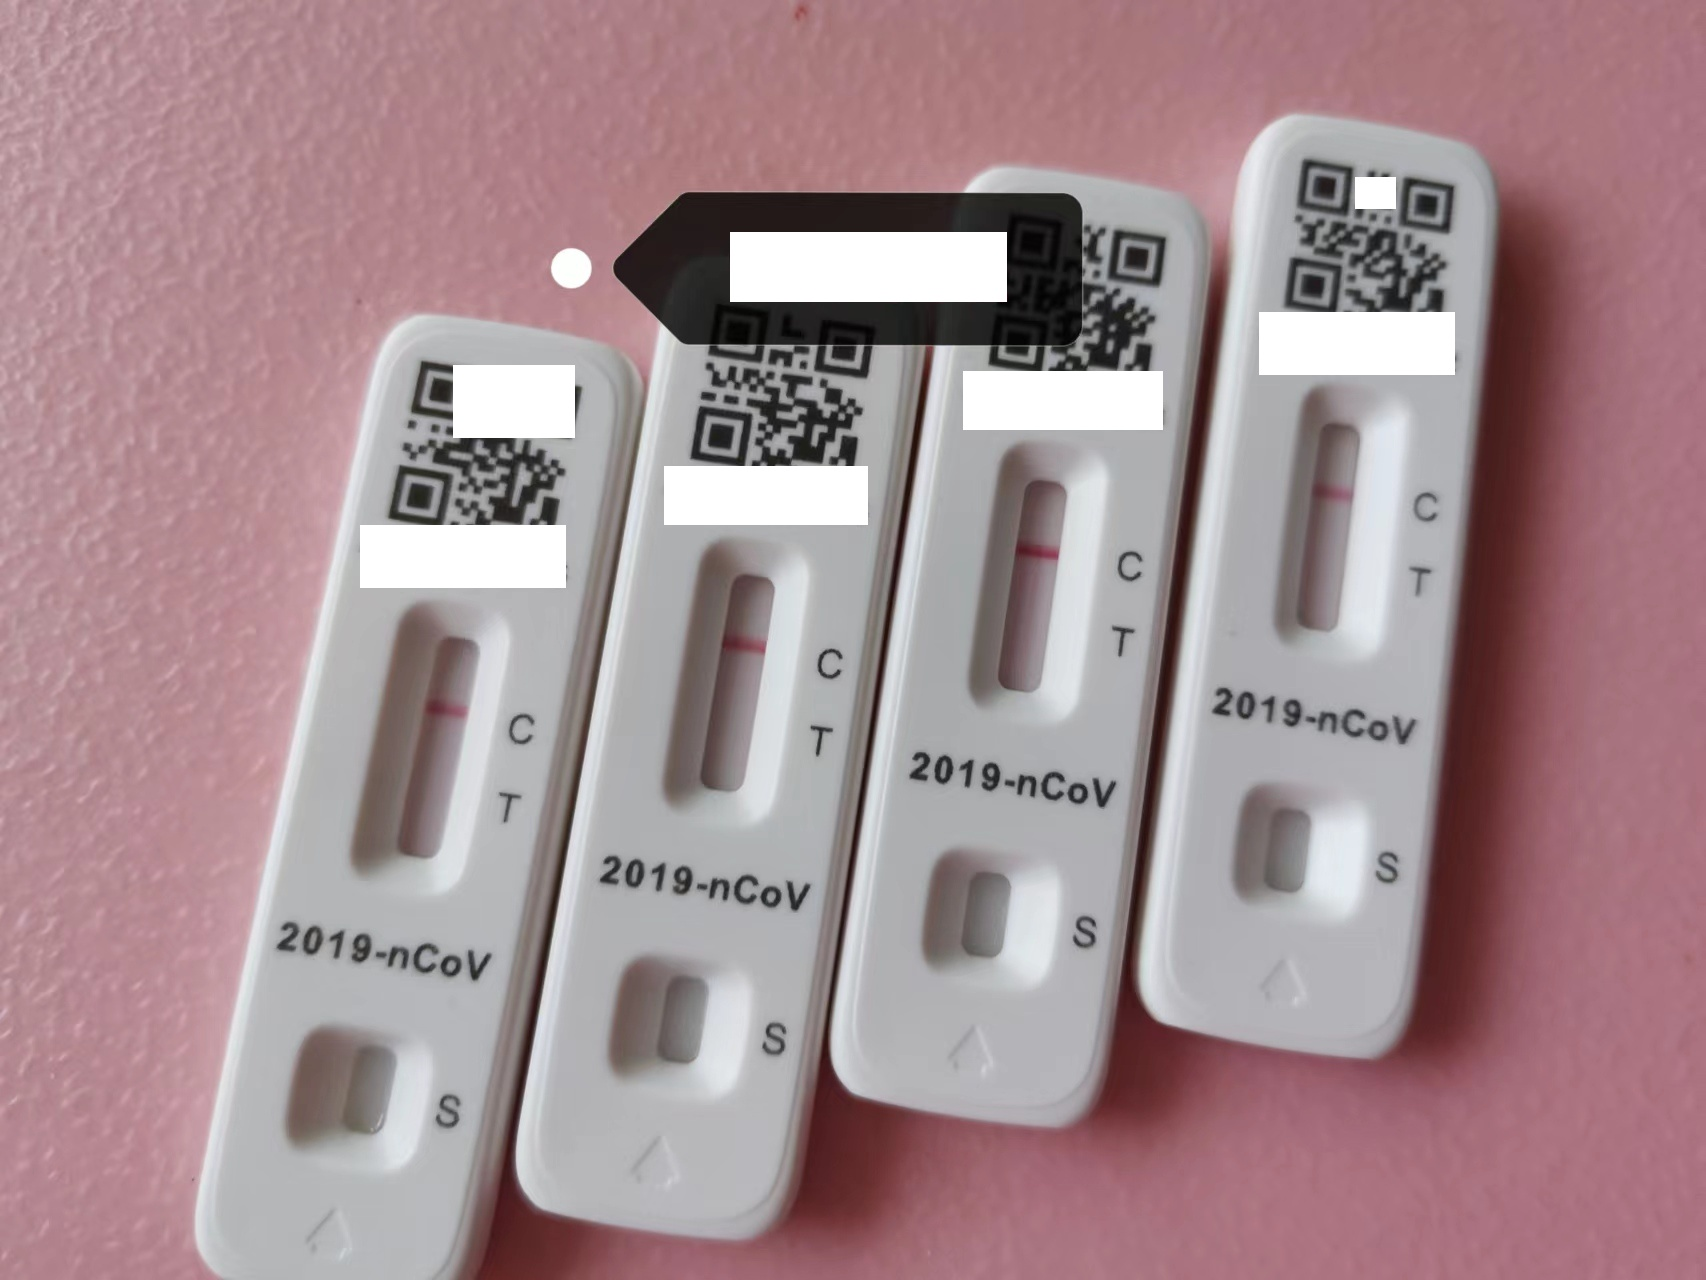negative: (362, 609, 496, 879), (672, 551, 797, 812), (973, 453, 1097, 714), (1278, 397, 1395, 648)
